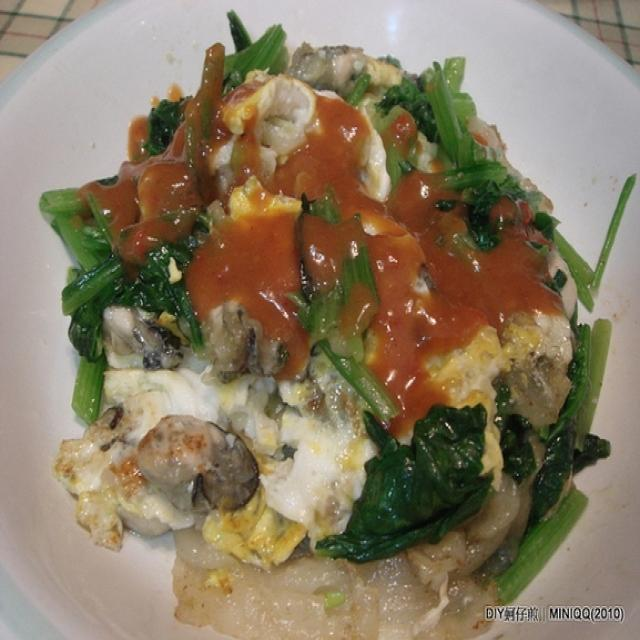熟制海鲜: (5, 10, 618, 621)
